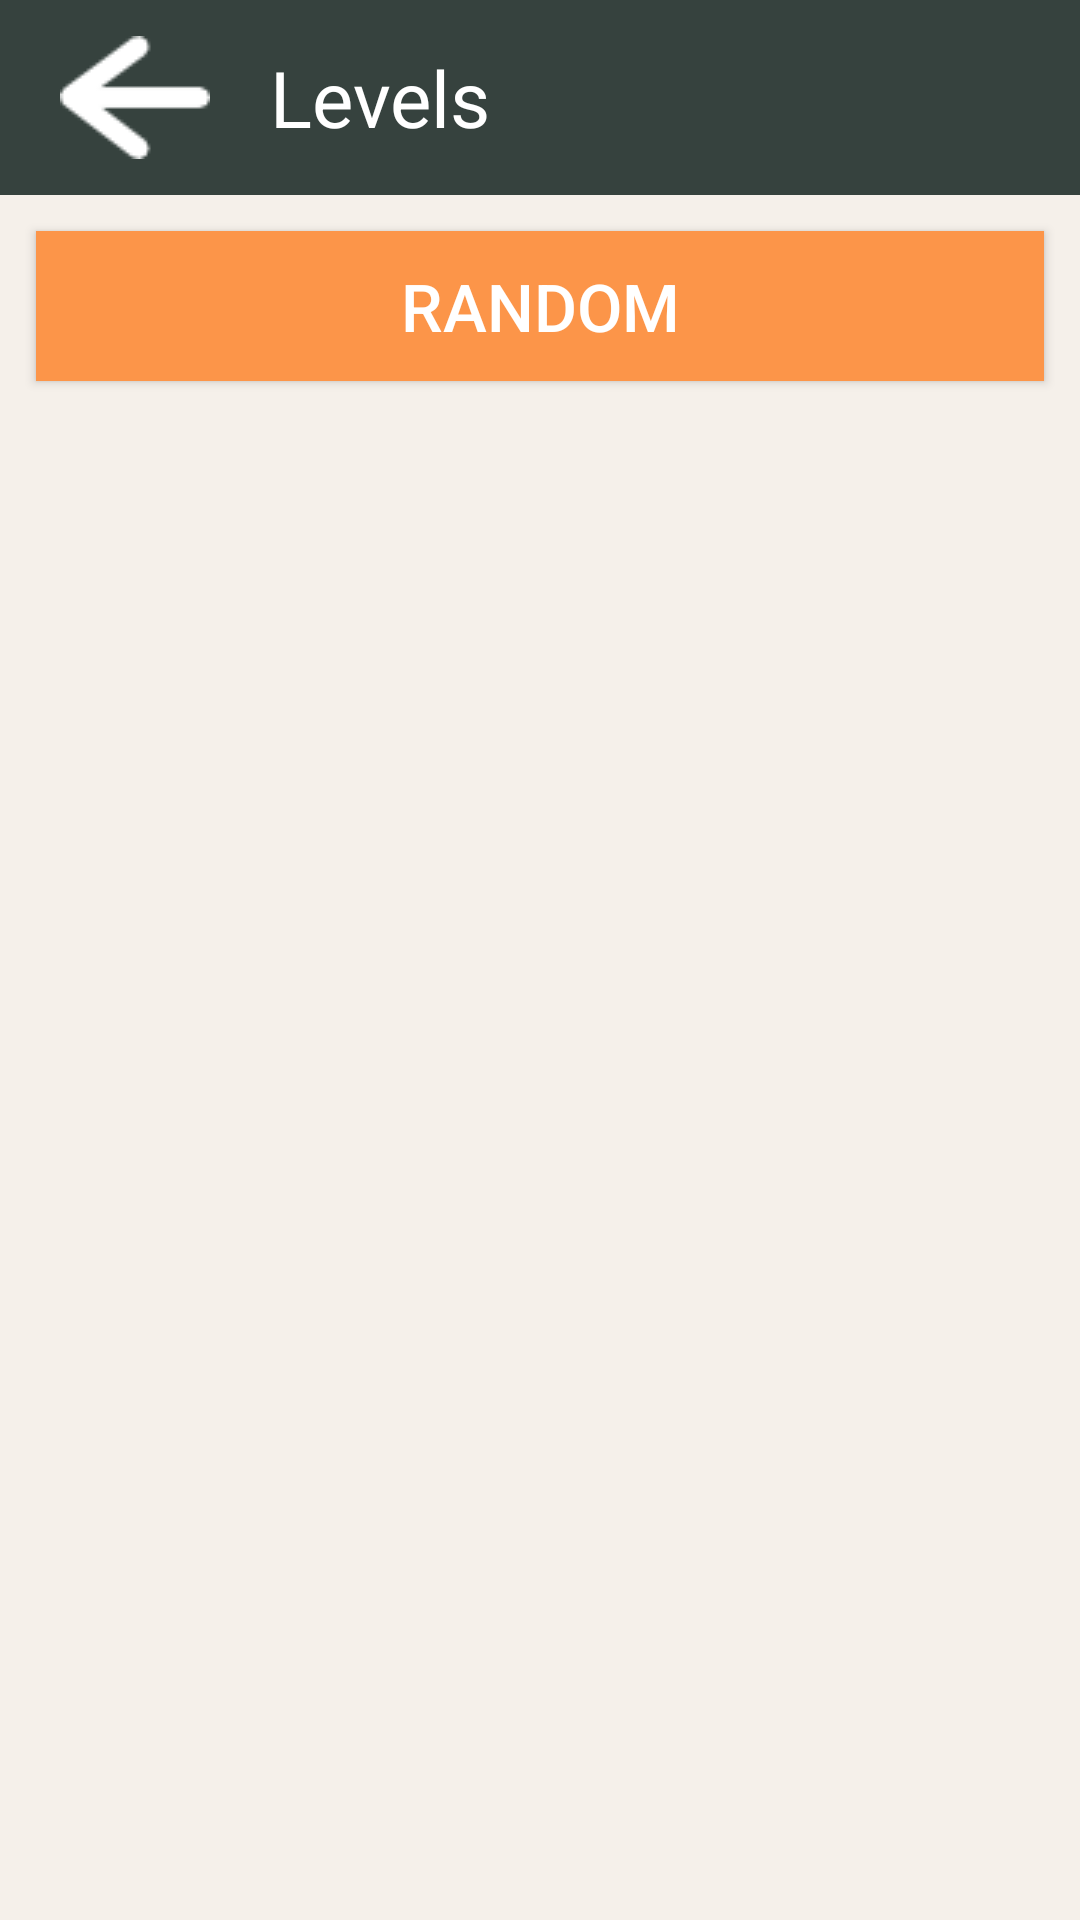

Screen size 1080w x 1920h. Icon name, then its box in pixels as BBox(x1, y1, x2, y2):
back states: BBox(60, 36, 210, 159)
